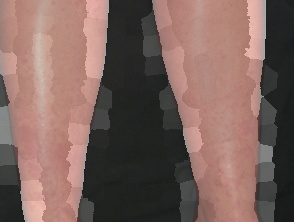SJS-TEN: (149, 0, 277, 222), (0, 0, 112, 222)
